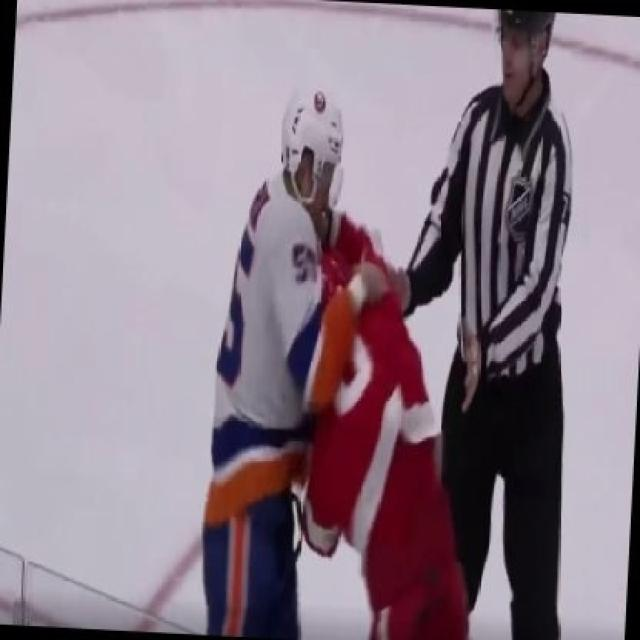fight: (194, 87, 466, 638)
non-fight: (389, 0, 597, 640)
